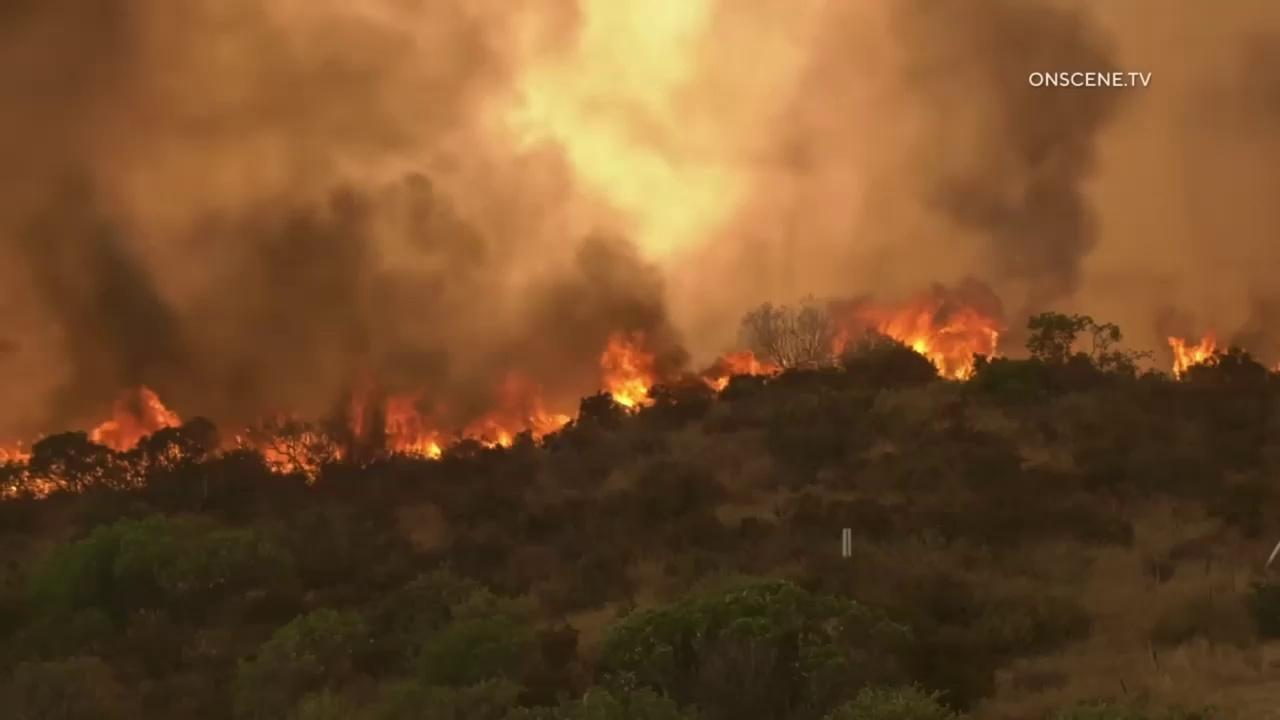fire: (0, 384, 184, 501), (831, 300, 999, 385), (461, 381, 572, 452), (600, 326, 657, 416), (257, 431, 343, 488), (380, 392, 442, 460), (699, 351, 785, 392), (1167, 330, 1218, 385), (352, 398, 364, 438), (1268, 362, 1280, 374), (1219, 347, 1230, 355), (235, 434, 241, 443)
smoke: (0, 0, 1280, 451)
